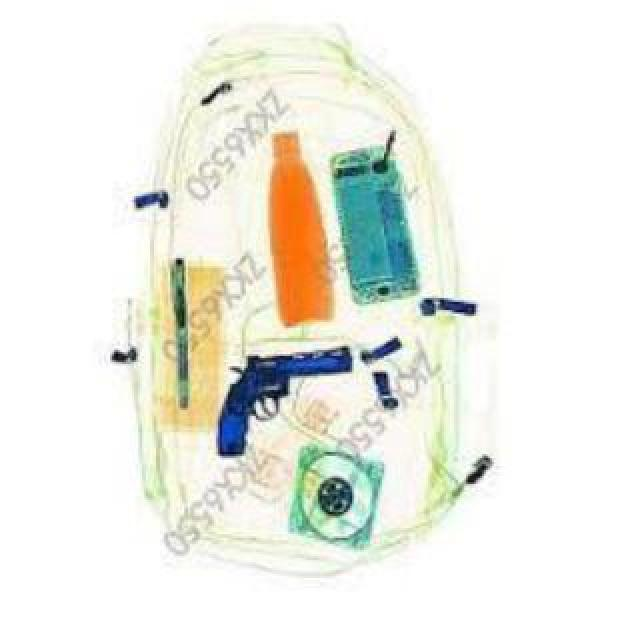gun: (210, 344, 350, 456)
